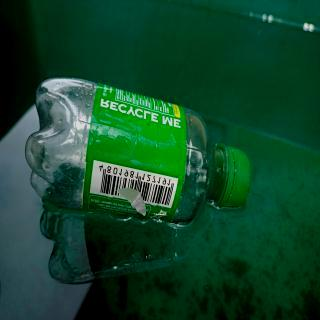bottle: (23, 76, 250, 228)
